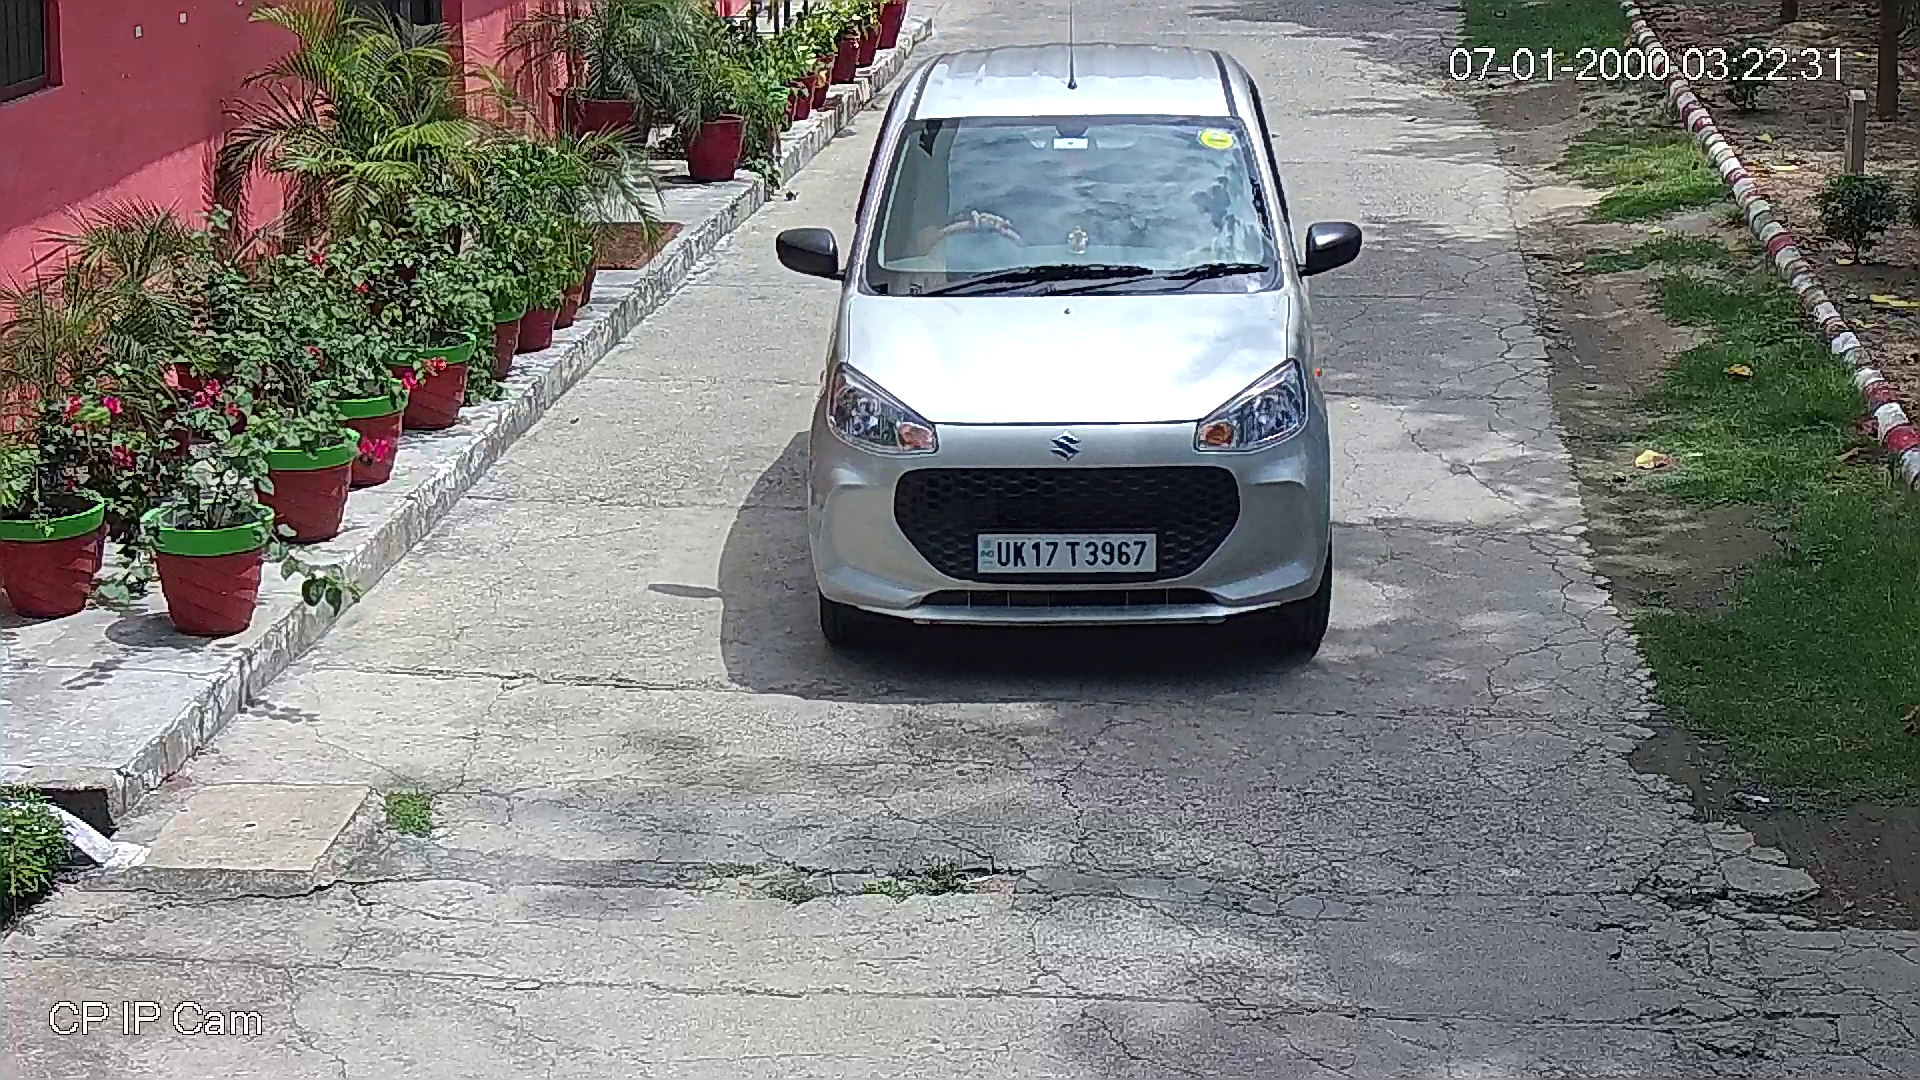plate: (977, 532, 1156, 571)
